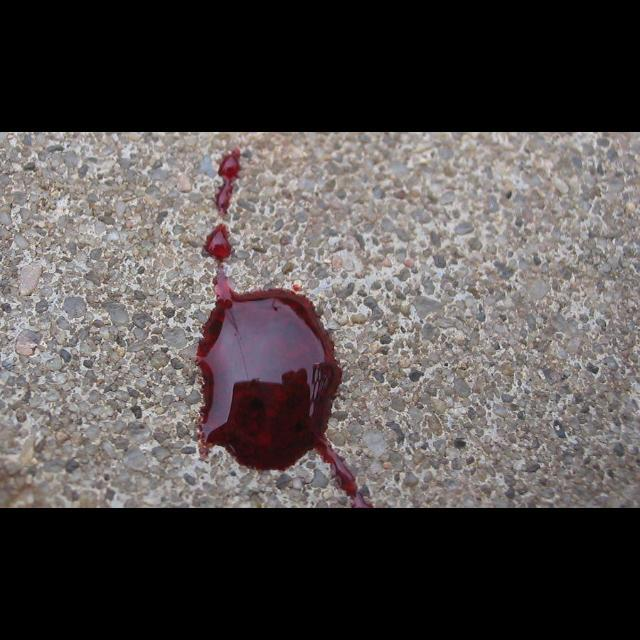blood: (197, 224, 372, 509), (215, 147, 240, 215)
